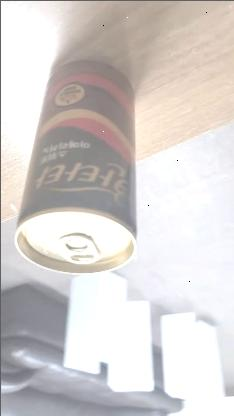Can: (14, 58, 136, 274)
